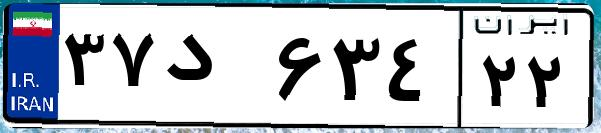2: (475, 38, 525, 113), (525, 38, 570, 115)
3: (330, 28, 385, 110), (57, 26, 110, 100)
4: (385, 28, 445, 110)
6: (270, 28, 330, 110)
7: (110, 28, 158, 98)
د: (158, 20, 270, 120)
